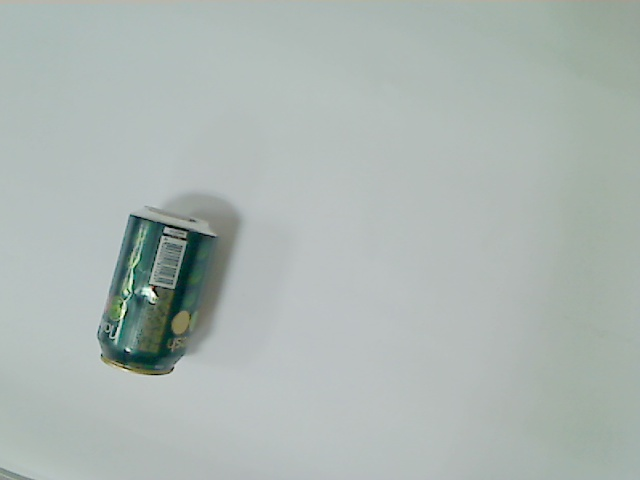can: (95, 203, 223, 379)
